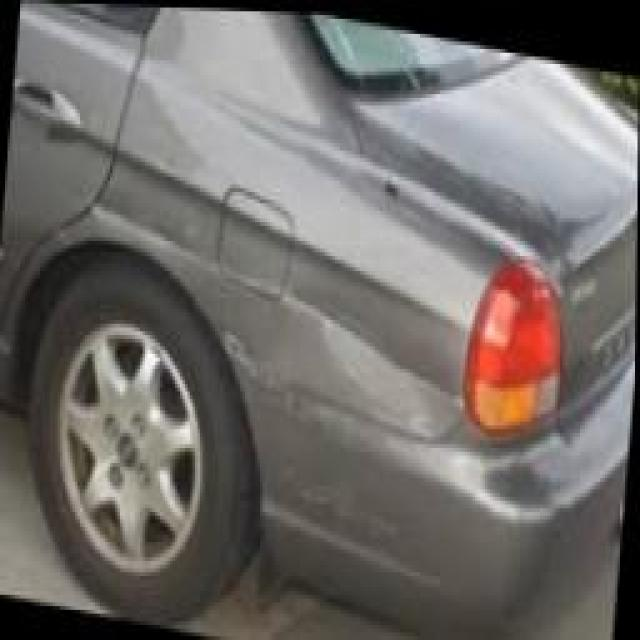Fender: (316, 274, 438, 439)
